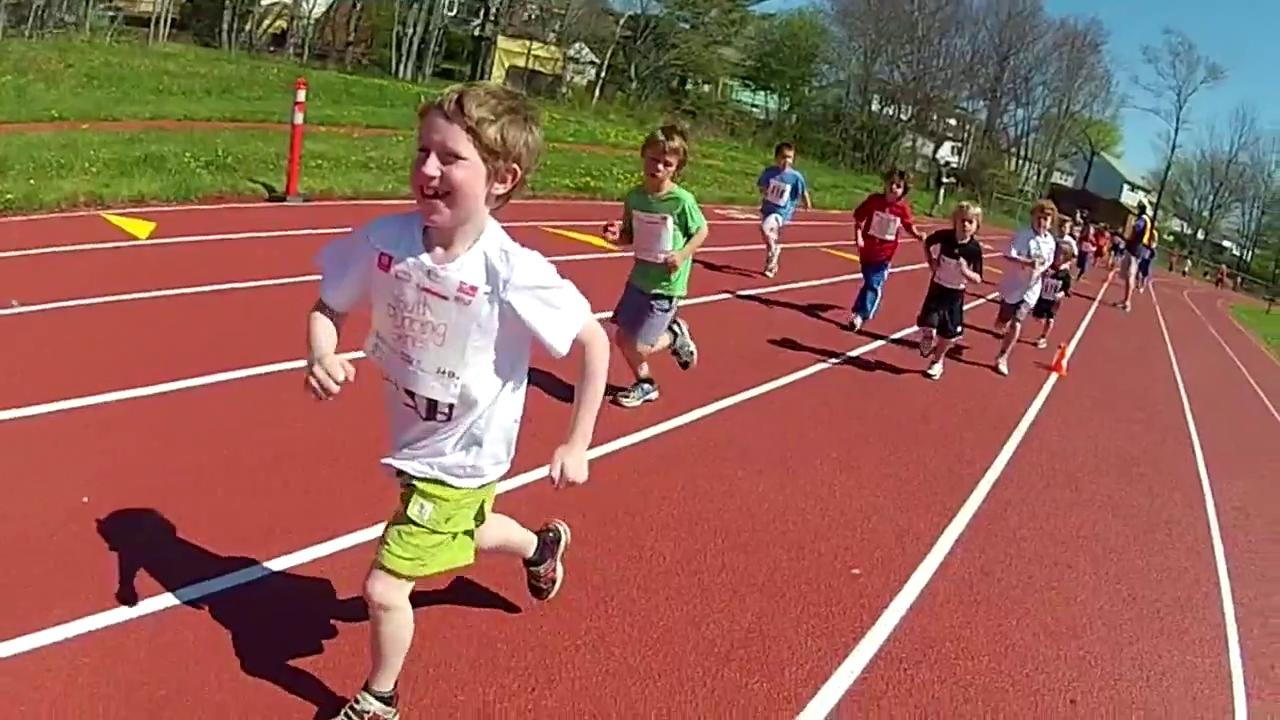victim: (304, 76, 612, 720), (598, 122, 709, 413), (835, 148, 931, 338), (916, 197, 992, 390), (735, 124, 816, 288), (994, 193, 1058, 386), (1022, 239, 1082, 351), (1114, 182, 1156, 314), (1070, 207, 1092, 280), (1181, 249, 1193, 282), (1166, 241, 1176, 280)
